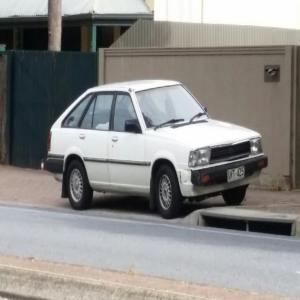Vehicle-registration-plate: (228, 166, 247, 184)
